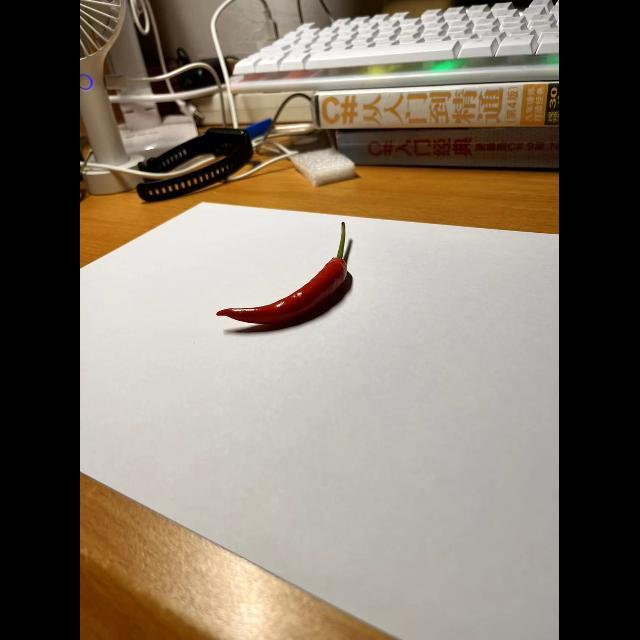chili_pepper: (203, 220, 366, 332)
